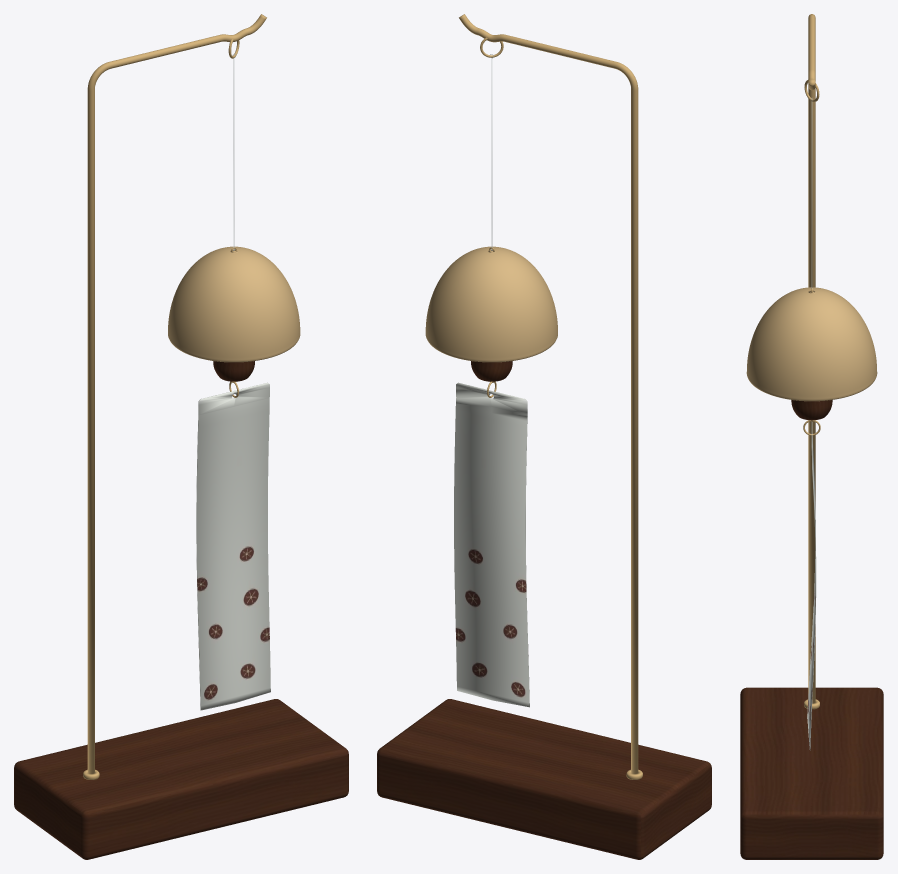
File: windchime-mobile.glb
3 views of the same model, side by side, from view 1: azimuth 30°, elevation 25°; view 2: azimuth 150°, elevation 25°; view 3: azimuth 270°, elevation 25° (orthographic).
Parts seen in each view (by area): view 1: 01_Walnut_Base, 15_Pierced_Washi_Paper_Tag, 10_Spun_Brass_Bell_Hollow_1p1mm, 04_Continuous_Round_Brass_Stand, 12_Turned_Walnut_Clapper; view 2: 01_Walnut_Base, 15_Pierced_Washi_Paper_Tag, 10_Spun_Brass_Bell_Hollow_1p1mm, 04_Continuous_Round_Brass_Stand, 12_Turned_Walnut_Clapper; view 3: 01_Walnut_Base, 10_Spun_Brass_Bell_Hollow_1p1mm, 04_Continuous_Round_Brass_Stand, 15_Pierced_Washi_Paper_Tag, 12_Turned_Walnut_Clapper, 06_Taut_Nylon_Monofilament.
Part boxes in pixels (x1,y1,x2,y2): 01_Walnut_Base: (14, 699, 348, 859); 15_Pierced_Washi_Paper_Tag: (196, 382, 270, 710); 10_Spun_Brass_Bell_Hollow_1p1mm: (168, 246, 300, 362); 04_Continuous_Round_Brass_Stand: (87, 14, 266, 773); 12_Turned_Walnut_Clapper: (213, 361, 254, 381); 01_Walnut_Base: (377, 699, 711, 859); 15_Pierced_Washi_Paper_Tag: (454, 382, 529, 707); 10_Spun_Brass_Bell_Hollow_1p1mm: (425, 246, 557, 362); 04_Continuous_Round_Brass_Stand: (459, 14, 638, 773); 12_Turned_Walnut_Clapper: (471, 361, 512, 381); 01_Walnut_Base: (740, 687, 883, 859); 10_Spun_Brass_Bell_Hollow_1p1mm: (746, 287, 877, 401); 04_Continuous_Round_Brass_Stand: (808, 14, 815, 703); 15_Pierced_Washi_Paper_Tag: (807, 422, 816, 750); 12_Turned_Walnut_Clapper: (791, 400, 832, 420); 06_Taut_Nylon_Monofilament: (811, 102, 812, 287).
Size of the model in its own units: 0.142 by 0.395 by 0.067.
6 materials, 2 textured.
